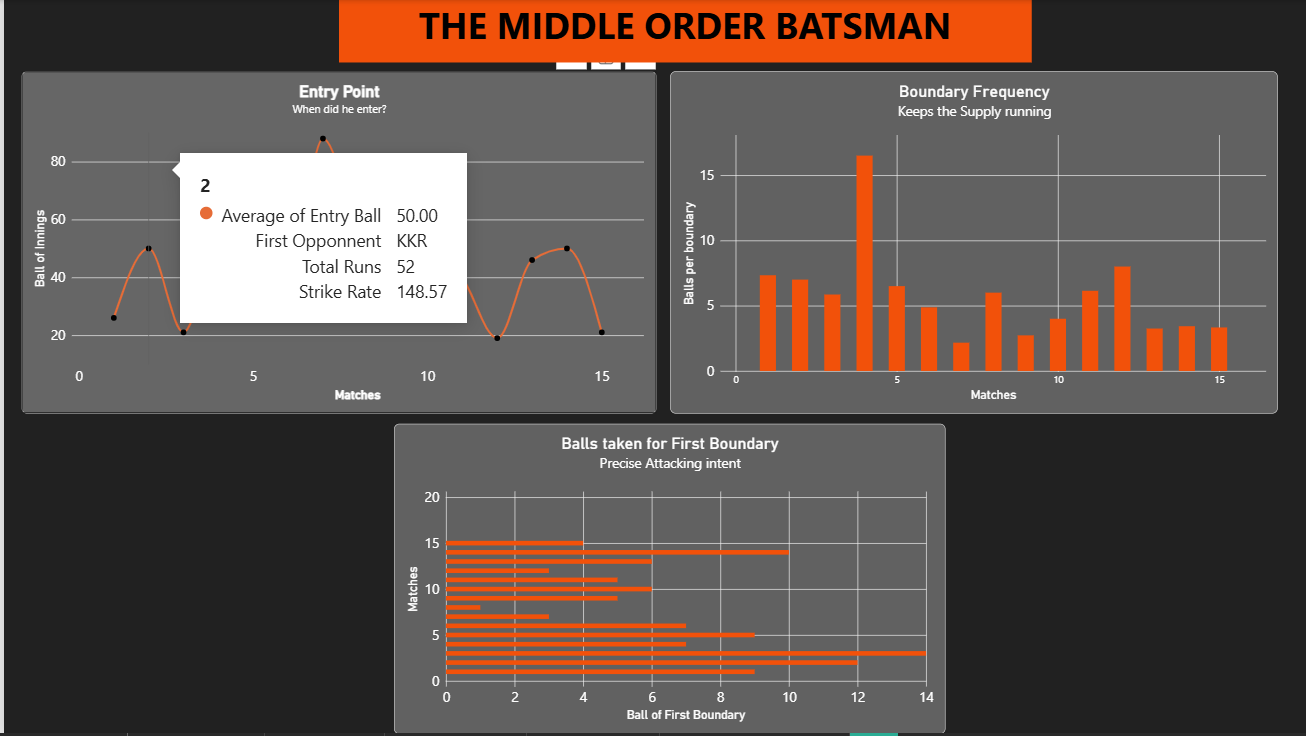

The page's visual inventory and layout, read from the dashboard file:
{"tool":"powerbi","page":{"name":"THE MIDDLE ORDER ","canvas":[1920,1080],"ordinal":4},"visuals":[{"type":"lineChart","title":"Entry Point","fields":{"Category":["Matches.Match"],"Y":["Avg(Match_batting1.Entry Ball)"]},"box":[25.8,104.9,935,504.3],"z":0},{"type":"clusteredColumnChart","title":"Boundary Frequency","fields":{"Category":["Matches.Match"],"Y":["Measures_Table.Balls per Boundary"]},"box":[981,104.9,894.5,504.3],"z":1000},{"type":"clusteredBarChart","title":"Balls taken for First Boundary","fields":{"Category":["Matches.Match"],"Y":["Max(Match_batting1.First boundary)"]},"box":[574.2,623.9,811.7,456.4],"z":2000},{"type":"textbox","box":[493.3,0,1019.6,92],"z":2001}]}

Visuals, with their boxes in screenshot pixels (x1, y1, x2, y2), scaled from the page's 1920x1080 canvas onto the 1306x736 screenshot:
"Entry Point" lineChart: crop(18, 71, 654, 415)
"Boundary Frequency" clusteredColumnChart: crop(667, 71, 1276, 415)
"Balls taken for First Boundary" clusteredBarChart: crop(391, 425, 943, 735)
textbox: crop(336, 0, 1029, 63)
